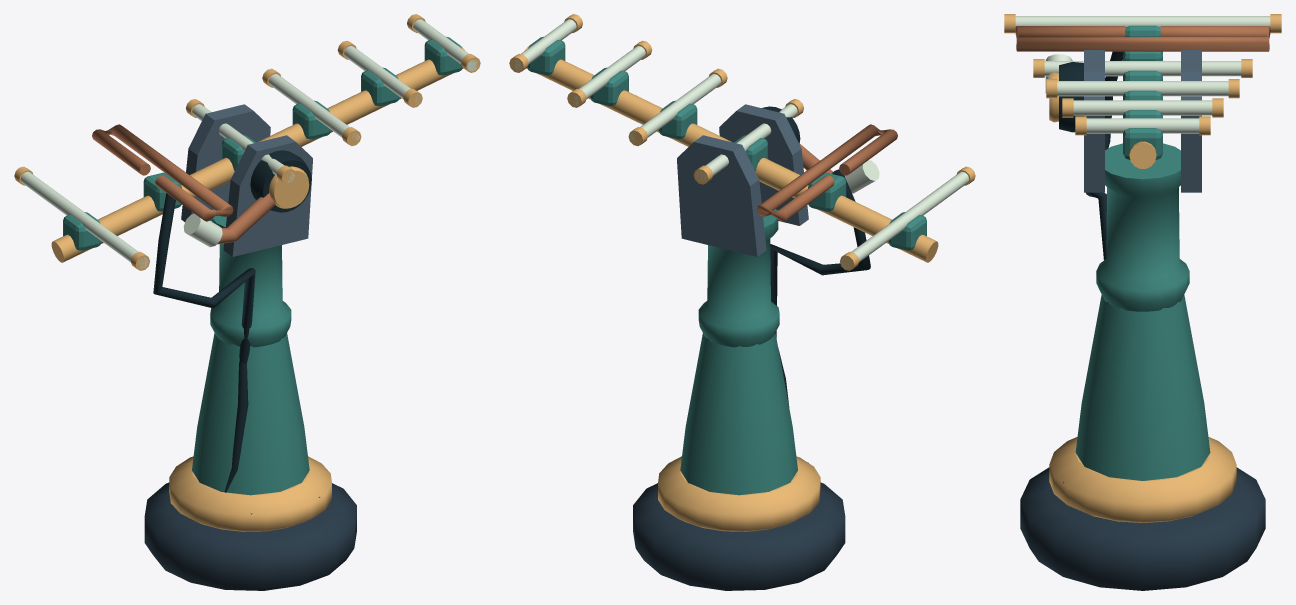
The picture shows the model from 3 angles, left to right: view 1: azimuth 30°, elevation 25°; view 2: azimuth 150°, elevation 25°; view 3: azimuth 270°, elevation 25°; orthographic projection. The views are drawn at different scales.
Parts seen in each view (by area): view 1: PR061 enamel and hardware; view 2: PR061 enamel and hardware; view 3: PR061 enamel and hardware.
Part boxes in pixels (x1,y1,x2,y2): PR061 enamel and hardware: [14, 14, 480, 590]; PR061 enamel and hardware: [509, 14, 975, 590]; PR061 enamel and hardware: [1004, 14, 1281, 590].
Bounding box in the file's own units: 1.65 × 1.79 × 0.8455.
